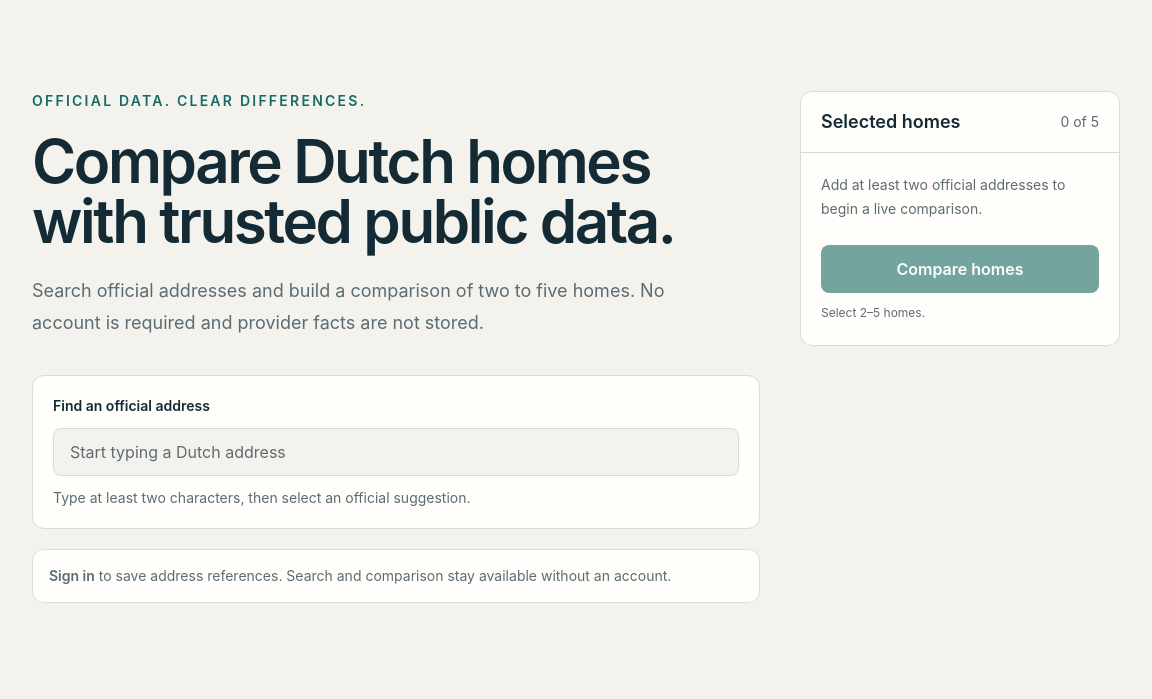
Test: ComparisonBuilder › shows an honest loading state and prevents duplicate comparison submissions
The image size is (1152, 699).
Type "Examplelaan 1" into the dropdown at (396, 452), box [53,428,739,476]
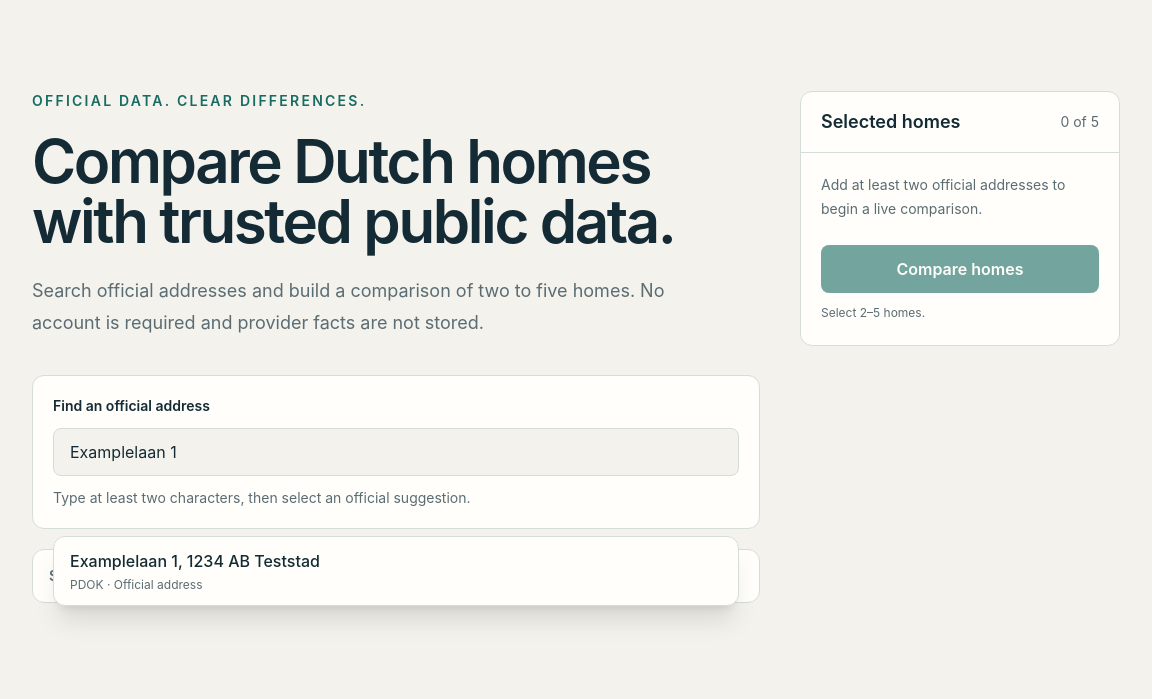
Click the option "Examplelaan 1, 1234 AB Teststad PDOK · Official address" at (195, 561), box [54,537,738,605]
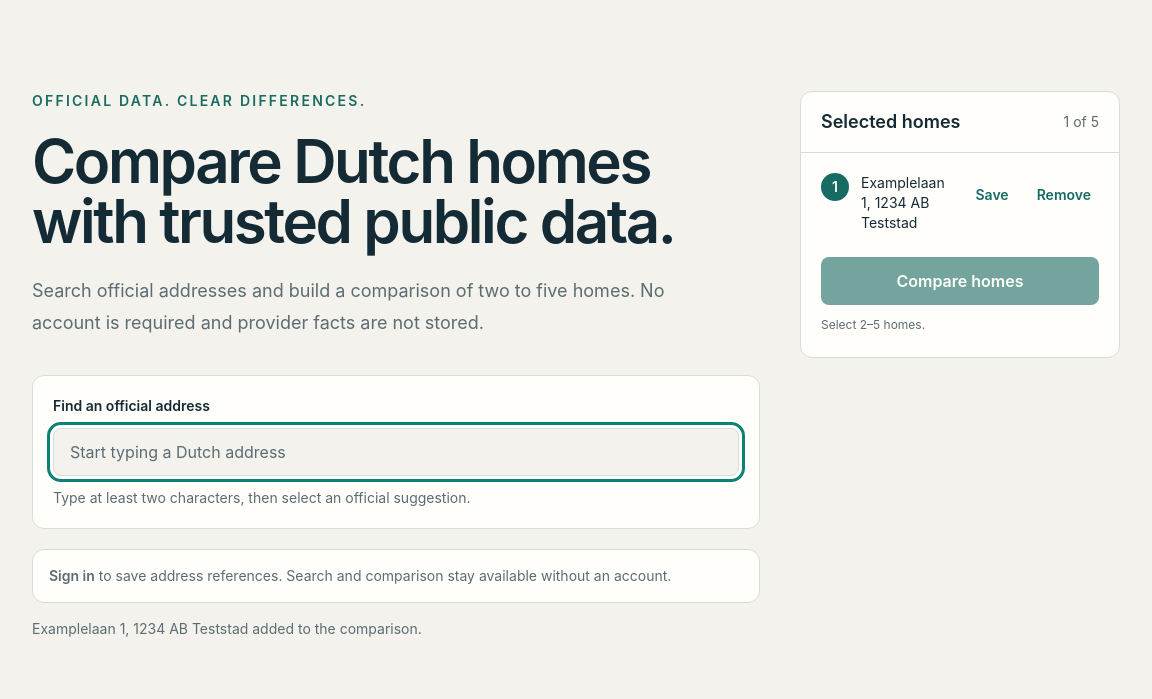
Type "Examplelaan 2" into the dropdown at (396, 452), box [53,428,739,476]
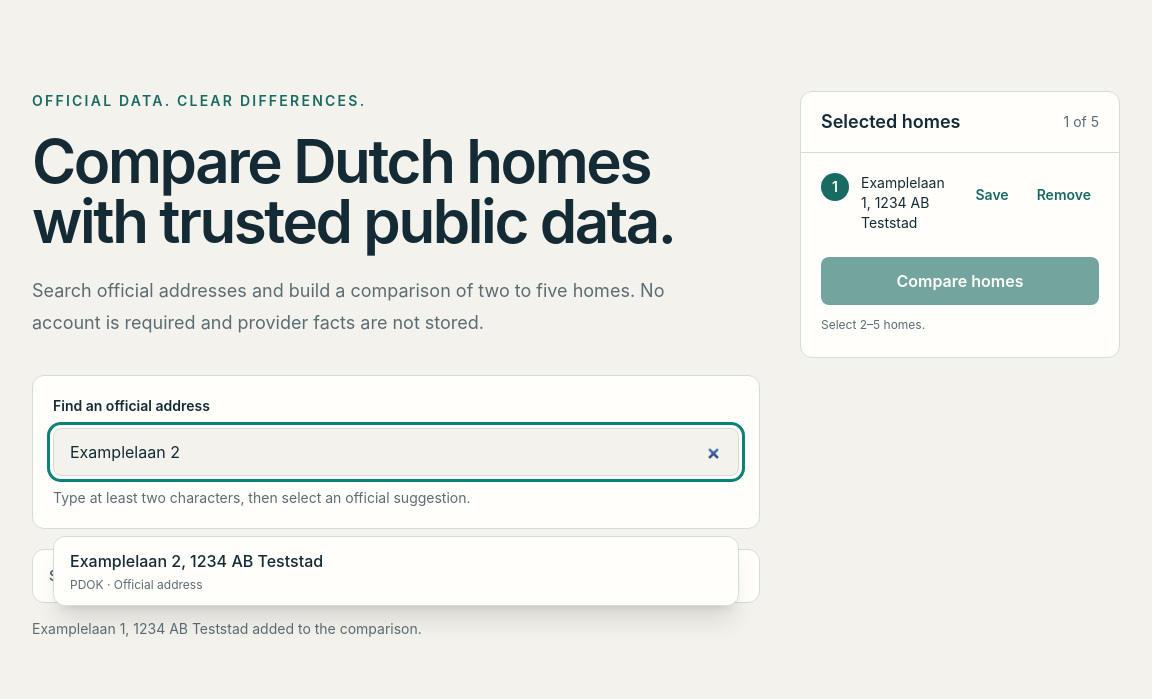
Click the option "Examplelaan 2, 1234 AB Teststad PDOK · Official address" at (197, 561), box [54,537,738,605]
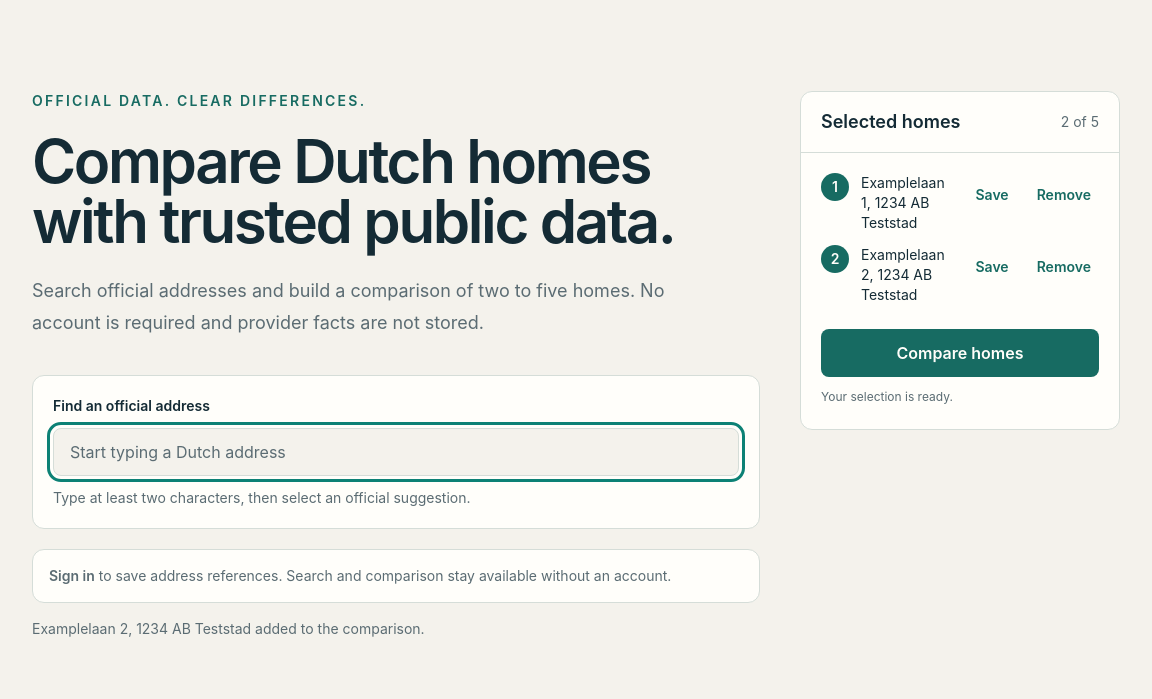
Click the button "Compare homes" at (960, 353), box [821,329,1099,377]
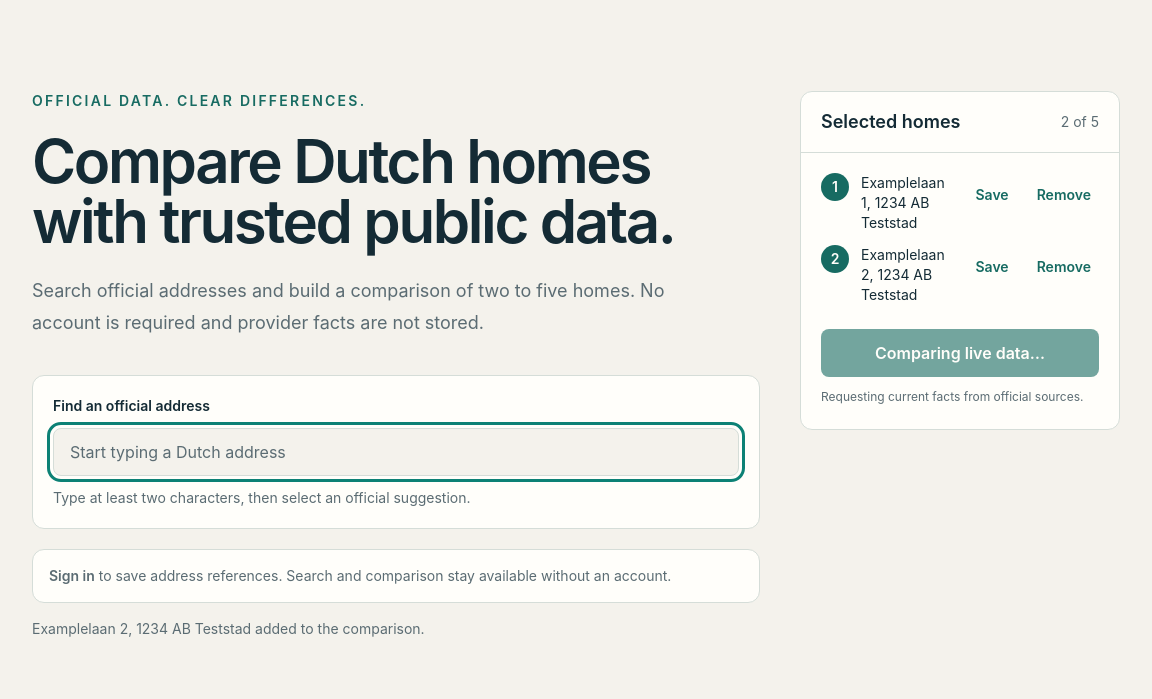
Result: the button "Comparing live data…" is disabled
Click the button "Comparing live data…" at (960, 353), box [821,329,1099,377]
(page scrolled)
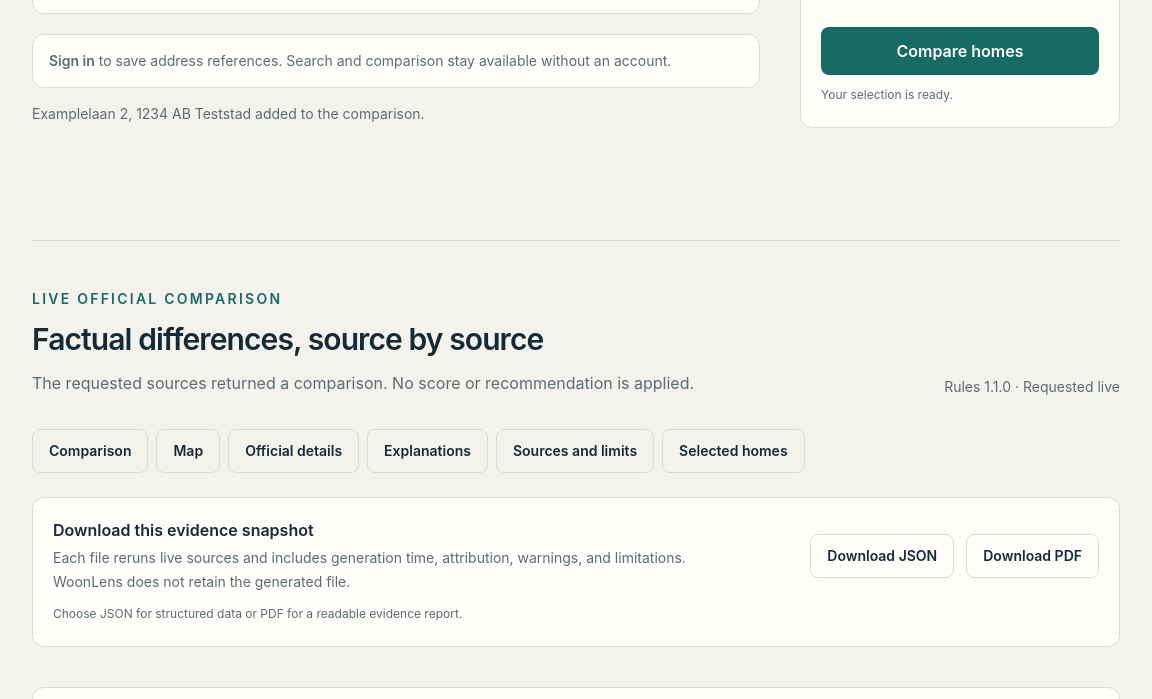
Result: the heading "Factual differences, source by source" is shown at [32,321,543,357]
